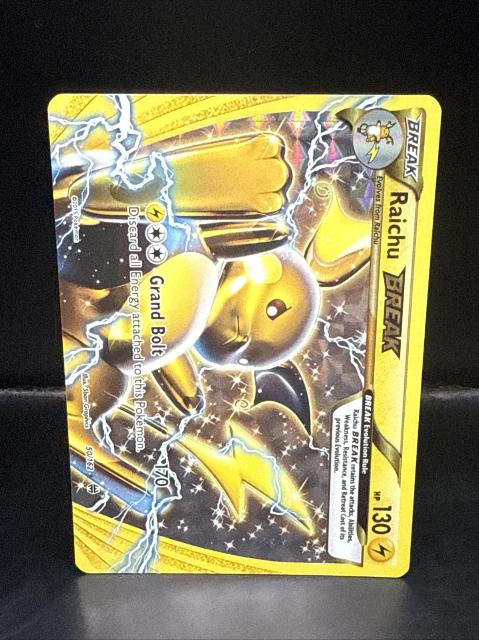Card: (44, 91, 450, 583)
Name: (377, 184, 418, 371)
